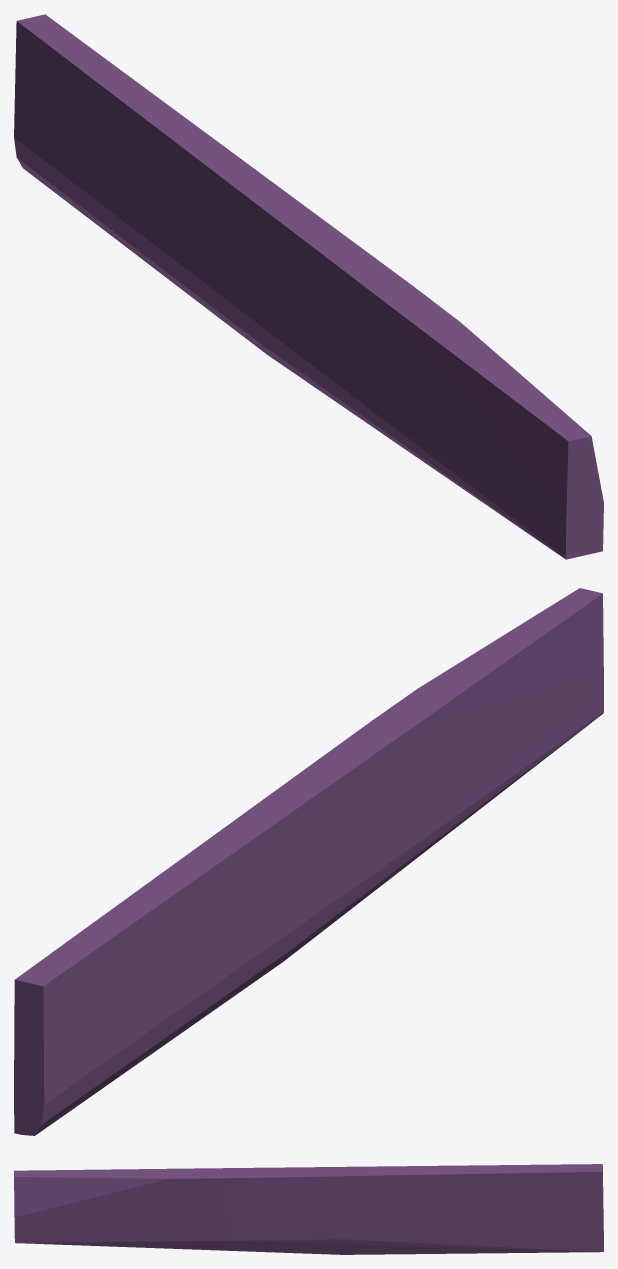
File: converted_Downdraft_Assy_collision_45_7a5486ff.obj
The picture shows the model from 3 angles, top to bottom: view 1: azimuth 30°, elevation 25°; view 2: azimuth 150°, elevation 25°; view 3: azimuth 270°, elevation 25°; orthographic projection. The views are drawn at different scales.
Size of the model in its own units: 0.0306 by 0.1155 by 0.7343.
